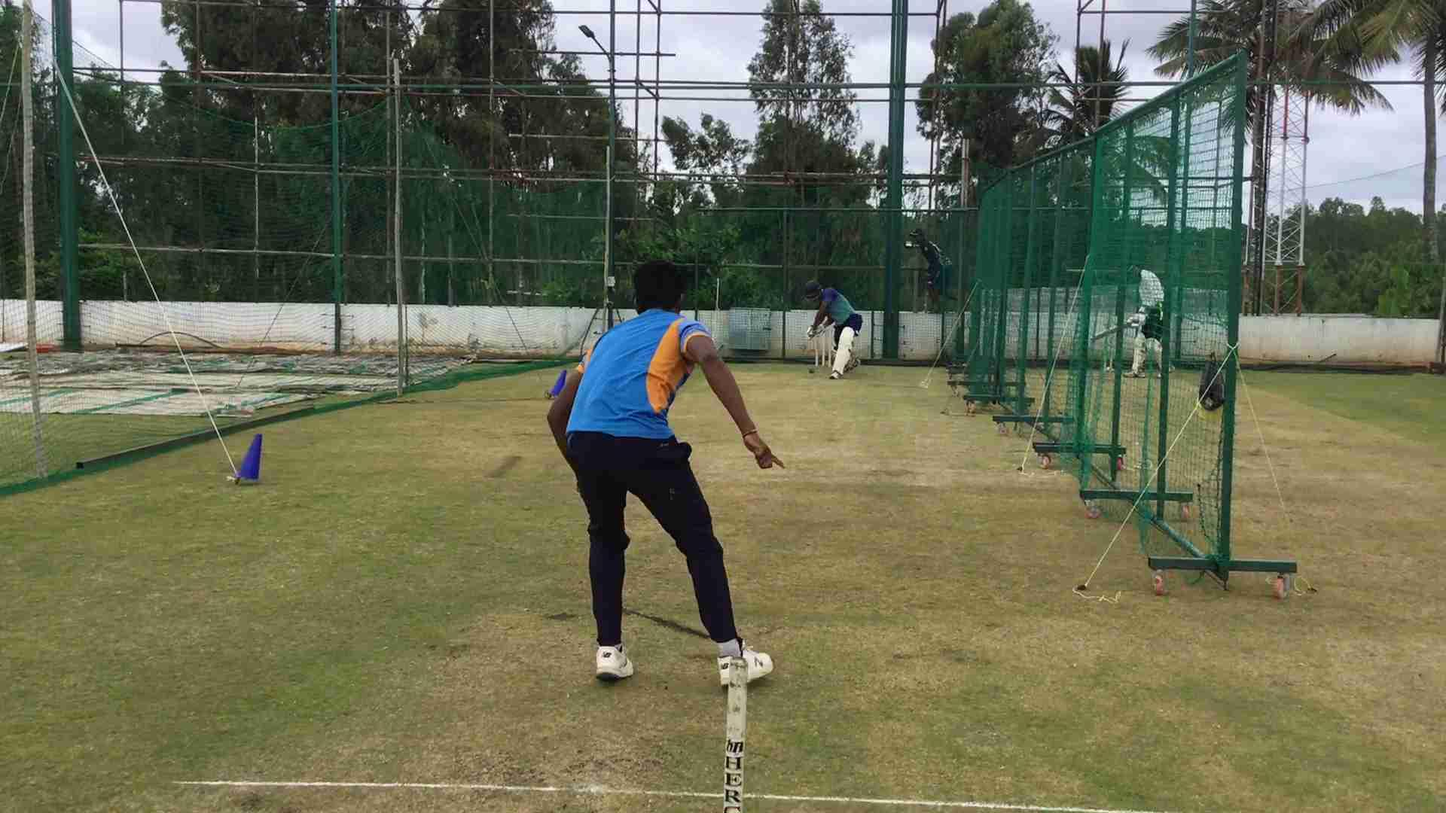batsman: (798, 273, 865, 382)
